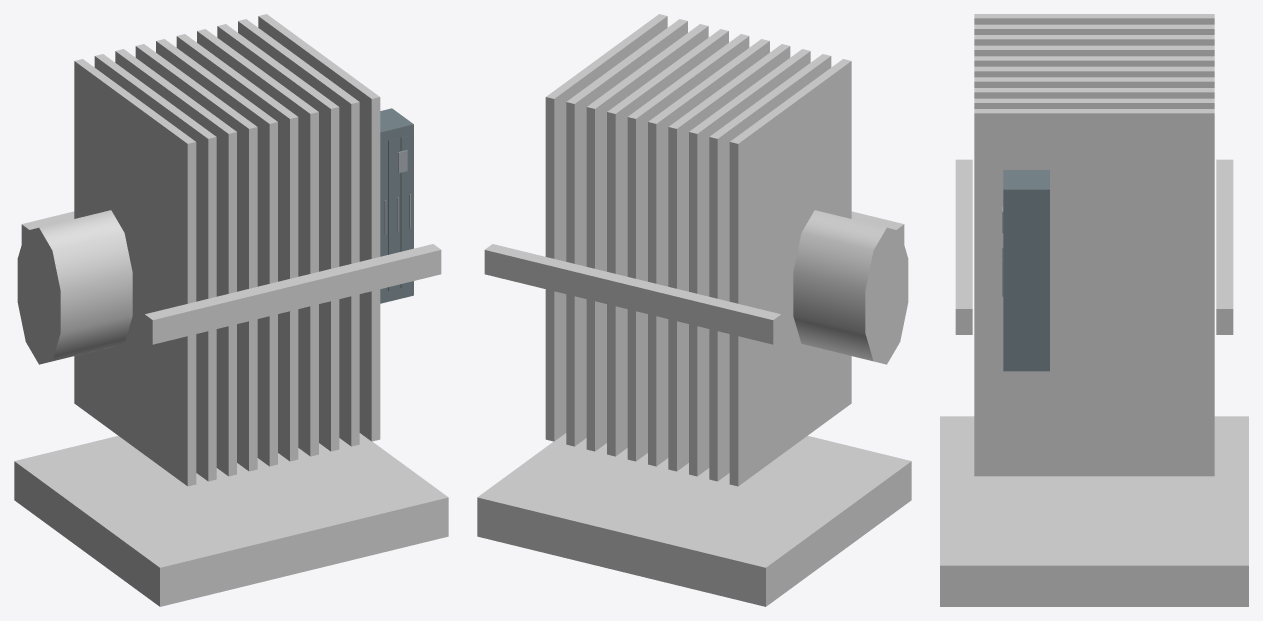
The picture shows the model from 3 angles, left to right: view 1: azimuth 30°, elevation 25°; view 2: azimuth 150°, elevation 25°; view 3: azimuth 270°, elevation 25°; orthographic projection. The views are drawn at different scales.
Parts seen in each view (by area): view 1: base_frame_1, filter_plate_3, closing_ram_15, link_14, filter_plate_12, filter_plate_10, filter_plate_4, filter_plate_8, filter_plate_6, filter_plate_11, filter_plate_5, filter_plate_7 (+5 smaller); view 2: base_frame_1, filter_plate_3, closing_ram_15, link_13, filter_plate_12, filter_plate_10, filter_plate_4, filter_plate_8, filter_plate_6, filter_plate_11, filter_plate_5, filter_plate_7 (+1 smaller); view 3: filter_plate_12, base_frame_1, g0.008, link_13, link_14, filter_plate_6, filter_plate_8, filter_plate_10, filter_plate_11, filter_plate_3, filter_plate_4, filter_plate_5 (+3 smaller).
Part boxes in pixels (<box>): base_frame_1: <box>14,433,448,606</box>; filter_plate_3: <box>74,59,196,486</box>; closing_ram_15: <box>17,210,132,364</box>; link_14: <box>144,244,441,344</box>; filter_plate_12: <box>258,14,380,441</box>; filter_plate_10: <box>217,24,339,451</box>; filter_plate_4: <box>94,54,216,481</box>; filter_plate_8: <box>176,34,298,461</box>; filter_plate_6: <box>135,44,257,471</box>; filter_plate_11: <box>238,19,359,446</box>; filter_plate_5: <box>115,49,236,476</box>; filter_plate_7: <box>156,39,277,466</box>; base_frame_1: <box>477,433,911,606</box>; filter_plate_3: <box>729,59,851,486</box>; closing_ram_15: <box>793,210,908,364</box>; link_13: <box>484,244,781,344</box>; filter_plate_12: <box>545,14,667,441</box>; filter_plate_10: <box>586,24,708,451</box>; filter_plate_4: <box>709,54,831,481</box>; filter_plate_8: <box>627,34,749,461</box>; filter_plate_6: <box>668,44,790,471</box>; filter_plate_11: <box>566,19,687,446</box>; filter_plate_5: <box>689,49,810,476</box>; filter_plate_7: <box>648,39,769,466</box>; filter_plate_12: <box>974,109,1214,476</box>; base_frame_1: <box>940,416,1248,606</box>; g0.008: <box>1003,189,1049,371</box>; link_13: <box>1216,159,1233,334</box>; link_14: <box>955,159,972,334</box>; filter_plate_6: <box>974,45,1214,56</box>; filter_plate_8: <box>974,66,1214,77</box>; filter_plate_10: <box>974,88,1214,98</box>; filter_plate_11: <box>974,98,1214,108</box>; filter_plate_3: <box>974,14,1214,24</box>; filter_plate_4: <box>974,24,1214,34</box>; filter_plate_5: <box>974,35,1214,45</box>.
Size of the model in its own units: 2.4 by 3 by 1.8.
